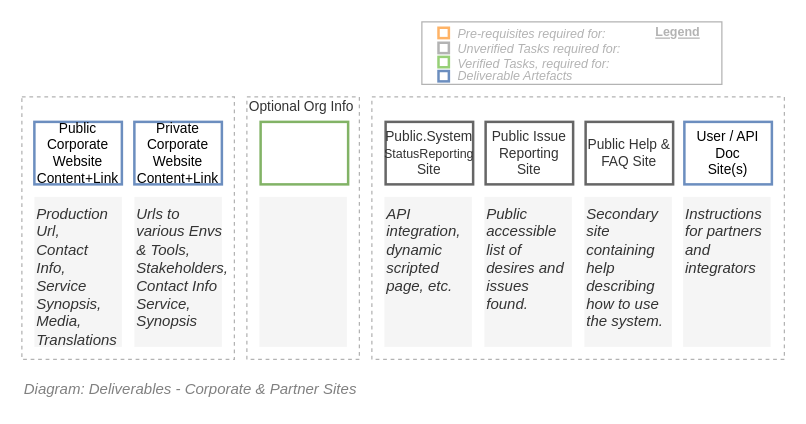
The diagram is 806 pixels wide and 424 high, and some of its shapes have lost their labels. Each missing label, with the box of its shape:
Data use, tracking/ cookies, privacy disclosures, PII correction instructions.: (259, 196, 346, 346)
Organistion sites: (21, 96, 234, 359)
Other wrapper services to consider using (depending on project): (371, 96, 784, 359)
Public T&C, Tracking, etc Declarations: (259, 120, 349, 185)
